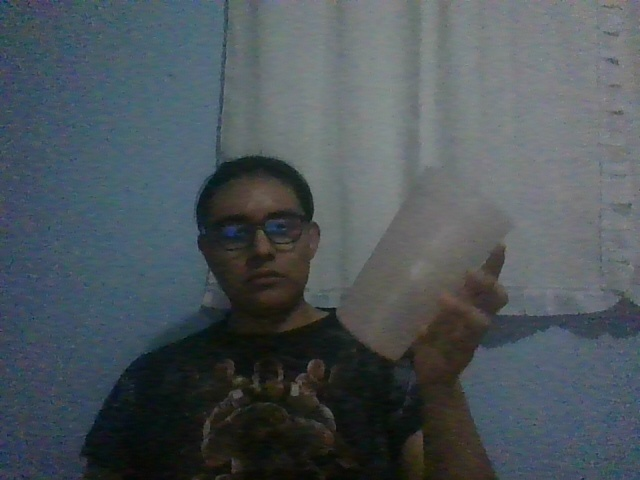vaso: (333, 164, 517, 363)
